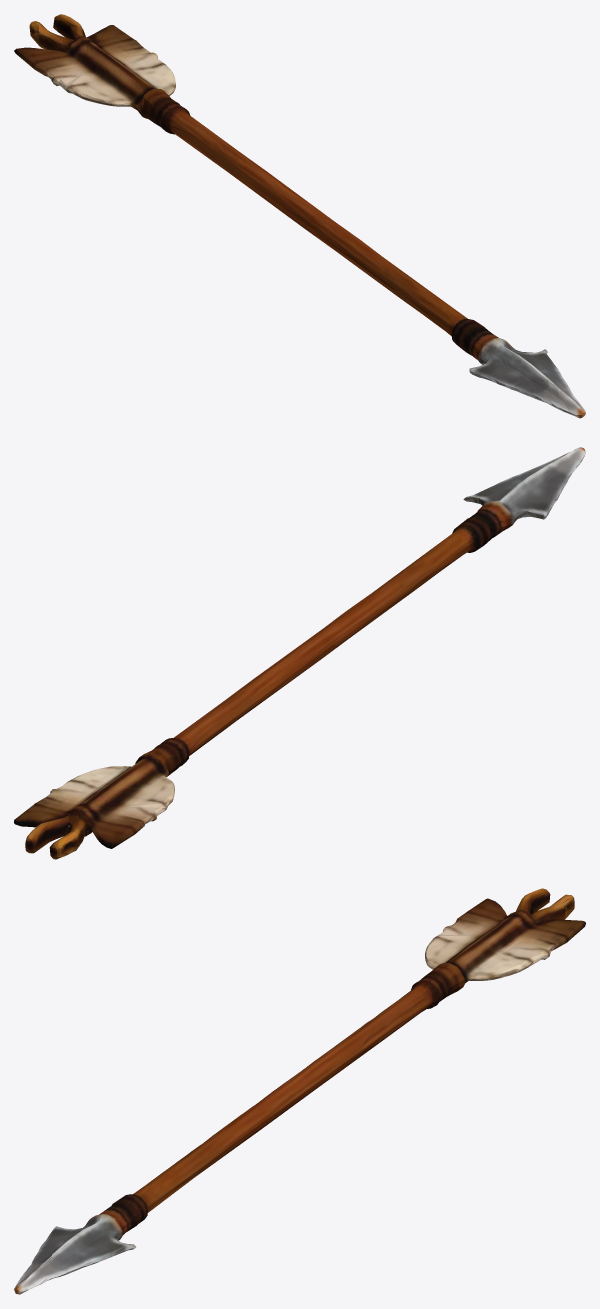
Rendered from arros.glb.
3 renders of one model, top to bottom at view 1: azimuth 30°, elevation 25°; view 2: azimuth 150°, elevation 25°; view 3: azimuth 330°, elevation 25°, orthographic.
Parts seen in each view (by area): view 1: geometry_0; view 2: geometry_0; view 3: geometry_0.
Boxes of the visible parts, x1,y1,x2,y2 form: geometry_0: [14, 14, 585, 418]; geometry_0: [14, 447, 585, 859]; geometry_0: [14, 888, 585, 1294].
Bounding box in the file's own units: 0.1117 × 0.0304 × 0.9986.
Materials: 1 (1 with a texture image).
